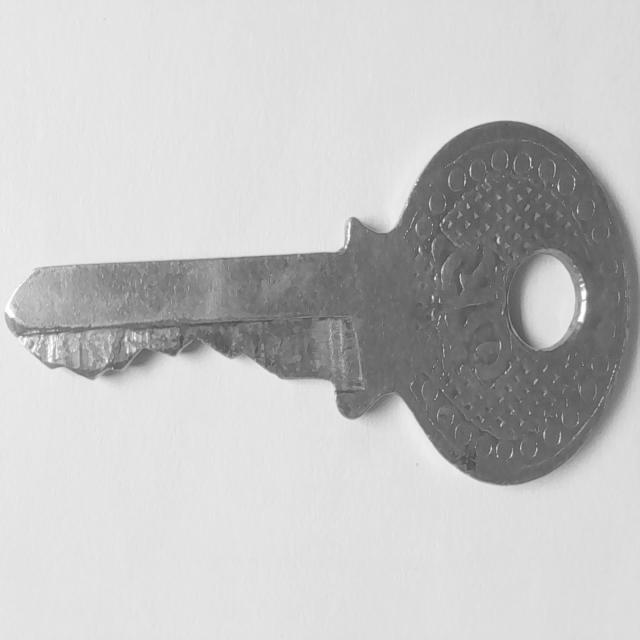KEY: (4, 121, 635, 485)
